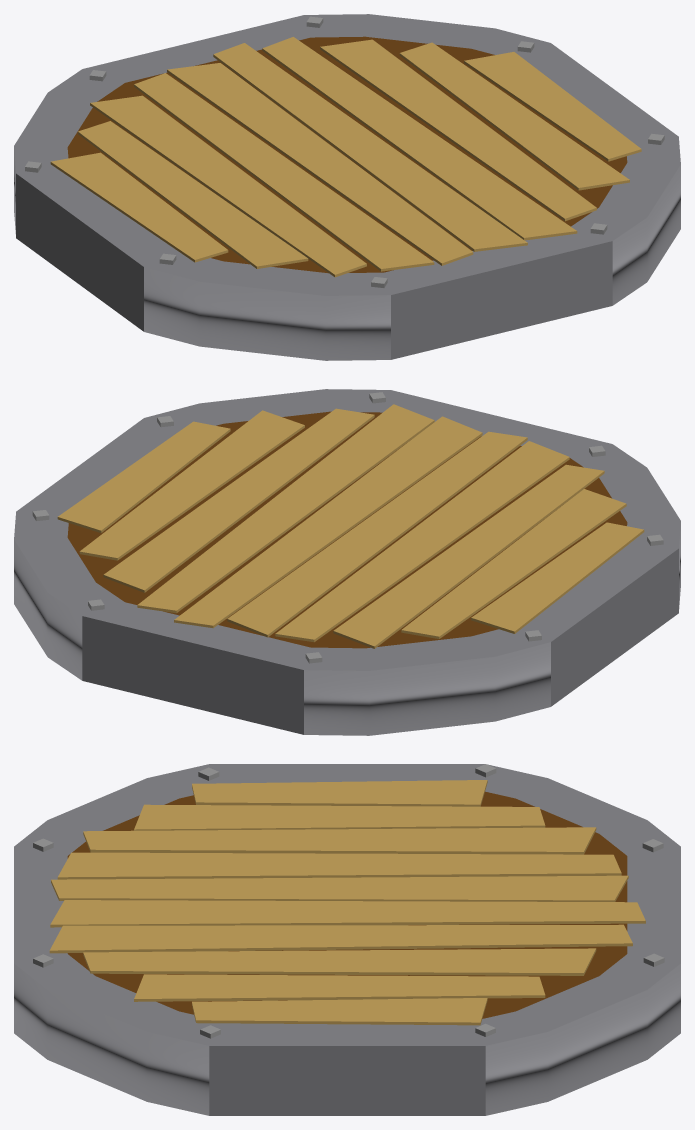
The model's file is Platform_Fantasy.fbx.
The picture shows the model from 3 angles, top to bottom: view 1: azimuth 30°, elevation 25°; view 2: azimuth 150°, elevation 25°; view 3: azimuth 270°, elevation 25°; orthographic projection. The views are drawn at different scales.
Visible parts, largest first — view 1: Platform Fantasy; view 2: Platform Fantasy; view 3: Platform Fantasy.
Part boxes in pixels (x1=…): Platform Fantasy: x1=14, y1=14, x2=680, y2=360; Platform Fantasy: x1=14, y1=389, x2=680, y2=735; Platform Fantasy: x1=14, y1=764, x2=680, y2=1115.
Size of the model in its own units: 425 by 76.24 by 425.
